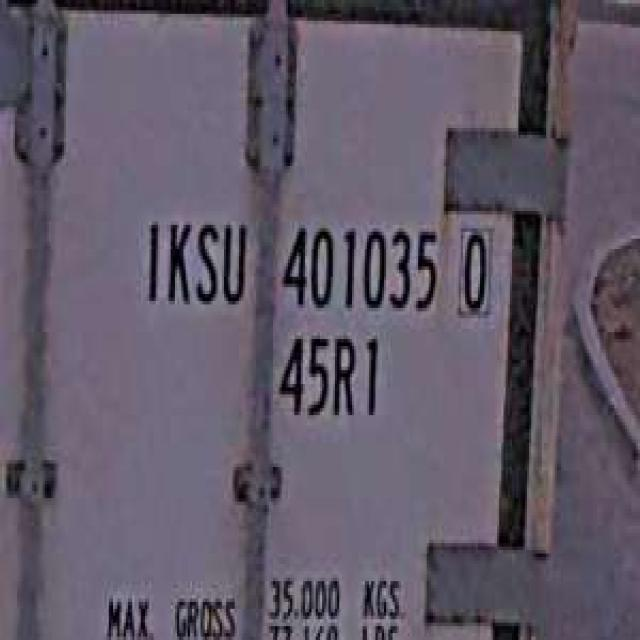dv: (452, 215, 497, 322)
owner: (138, 200, 250, 314)
serial: (273, 208, 442, 322)
size: (273, 322, 386, 429)
